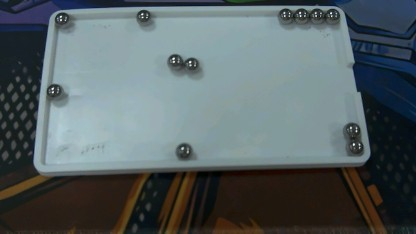ironball: (164, 49, 184, 75), (343, 139, 368, 157), (45, 81, 68, 100), (339, 120, 361, 139), (131, 7, 153, 26), (271, 7, 293, 25), (50, 10, 74, 26), (173, 140, 192, 160), (324, 4, 340, 26), (307, 6, 324, 25), (292, 7, 309, 26), (184, 54, 200, 72)
